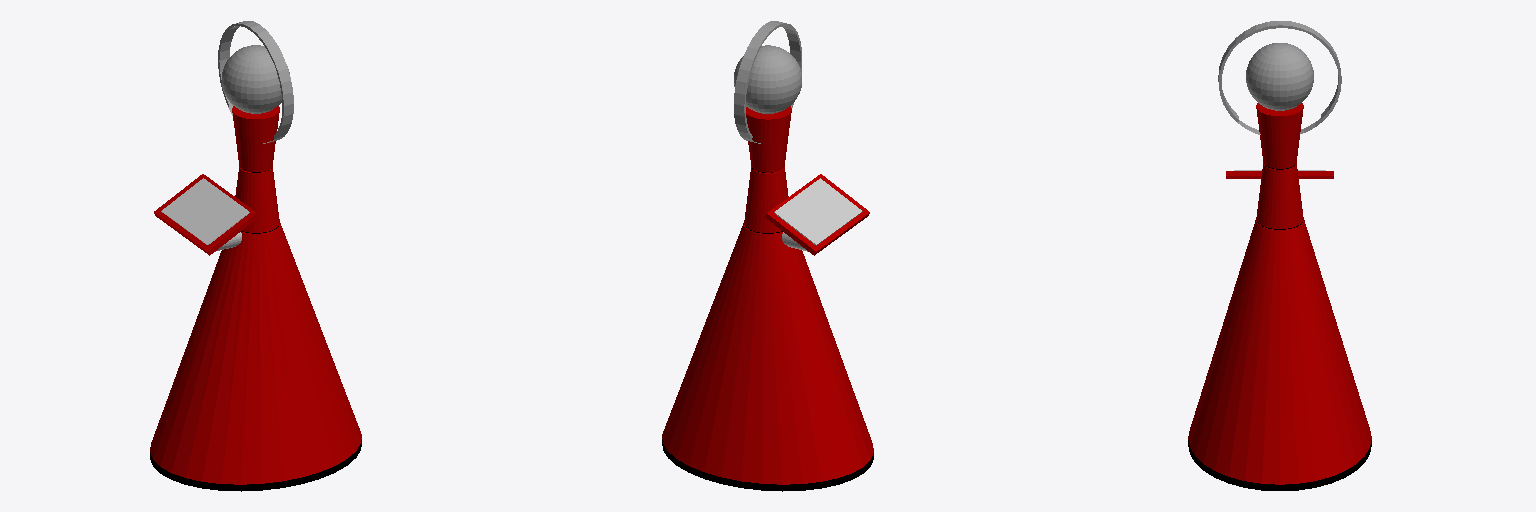
URDF robot description (scitosA5):
<?xml version="1.0" ?>
<robot name="scitosA5" xmlns:controller="http://playerstage.sourceforge.net/gazebo/xmlschema/#controller" xmlns:interface="http://playerstage.sourceforge.net/gazebo/xmlschema/#interface" xmlns:joint="http://playerstage.sourceforge.net/gazebo/xmlschema/#slider" xmlns:sensor="http://playerstage.sourceforge.net/gazebo/xmlschema/#sensor" xmlns:xacro="http://ros.org/wiki/xacro">
  <material name="Red">
    <color rgba="0.8 0.0 0.0 1.0"/>
  </material>
  <link name="base_link">
    <inertial>
      <mass value="74.5"/>
      <origin xyz="-0.061 0.0 0.1465"/>
      <inertia ixx="5.652232699207" ixy="-0.009719934438" ixz="1.293988226423" iyy="5.669473158652" iyz="-0.007379583694" izz="3.683196351726"/>
    </inertial>
    <visual>
      <origin rpy="0 0 0" xyz="0 0 0.0"/>
      <geometry>
        <!-- <cylinder length="0.6" radius="0.2"/> -->
        <mesh filename="package://scitos_description/meshes/scitos.dae"/>
      </geometry>
      <!-- <material name="Red"/> -->
    </visual>
    <collision>
      <origin rpy="0 0 0" xyz="0 0 0.3"/>
      <geometry>
        <cylinder length="0.6" radius="0.2"/>
        <!-- <mesh filename="package://strands_morse_2dnav/scitosA5.stl"/> -->
      </geometry>
    </collision>
  </link>

  <link name="base_footprint">
    <inertial>
      <mass value="1.0"/>
      <origin xyz="0 0 0"/>
      <inertia ixx="0.01" ixy="0.0" ixz="0.0" iyy="0.01" iyz="0.0" izz="0.01"/>
    </inertial>
    <visual>
      <origin rpy="0 0 0" xyz="0 0 0"/>
      <geometry>
        <box size="0.01 0.01 0.01"/>
      </geometry>
      <material name="Red"/>
    </visual>
    <collision>
             surface of the collision box matches the top surface of the PR2 base -->
      <origin rpy="0 0 0" xyz="0 0 0.071"/>
      <geometry>
        <box size="0.001 0.001 0.001"/>
      </geometry>
    </collision>
  </link>
  <joint name="base_footprint_joint" type="fixed">
    <origin rpy="0 0 0" xyz="0 0 0.051"/>
    <child link="base_link"/>
    <parent link="base_footprint"/>
  </joint>
  <joint name="base_laser_joint" type="fixed">
    <axis xyz="0 1 0"/>
    <!-- Match the laser with the robot model:
         self.scan.translate(x=0.30, z=0.386) -->
    <origin rpy="0 0 0" xyz="0.3 0.0 0.386"/>
    <!-- <origin rpy="0 0 0" xyz="0.275 0.0 0.252"/> -->
    <parent link="base_link"/>
    <child link="base_laser_link"/>
  </joint>
  <link name="base_laser_link" type="laser">
    <inertial>
      <mass value="0.001"/>
      <origin rpy="0 0 0" xyz="0 0 0"/>
      <inertia ixx="0.0001" ixy="0" ixz="0" iyy="0.000001" iyz="0" izz="0.0001"/>
    </inertial>
  </link>
  <joint name="ptz_z_joint" type="fixed">
    <axis xyz="0 0 1"/>
    <!-- Match the laser with the robot model:
         self.scan.translate(x=0.30, z=0.386) -->
    <origin rpy="0 0 0" xyz="0.0 0.0 1.534"/>
    <!-- <origin rpy="0 0 0" xyz="0.275 0.0 0.252"/> -->
    <parent link="base_link"/>
    <child link="ptz_mid_link"/>
  </joint>
  <link name="ptz_mid_link">
    <inertial>
      <mass value="0.001"/>
      <origin rpy="0 0 0" xyz="0 0 0.0"/>
      <inertia ixx="0.0001" ixy="0" ixz="0" iyy="0.000001" iyz="0" izz="0.0001"/>
    </inertial>
  </link>
  <joint name="ptz_y_joint" type="fixed">
    <axis xyz="0 1 0"/>
    <!-- Match the laser with the robot model:
         self.scan.translate(x=0.30, z=0.386) -->
    <origin rpy="0 0 0" xyz="0.0 0.0 0.043"/>
    <!-- <origin rpy="0 0 0" xyz="0.275 0.0 0.252"/> -->
    <parent link="ptz_mid_link"/>
    <child link="ptz_link"/>
  </joint>
  <link name="ptz_link">
    <inertial>
      <mass value="0.001"/>
      <origin rpy="0 0 0" xyz="0 0 0.0"/>
      <inertia ixx="0.0001" ixy="0" ixz="0" iyy="0.000001" iyz="0" izz="0.0001"/>
    </inertial>
  </link>
  <joint name="camera_joint" type="fixed">
    <!-- <axis xyz="0 1 0"/> -->
    <!-- Match the laser with the robot model:
         self.scan.translate(x=0.30, z=0.386) -->
    <origin rpy="0 0 0" xyz="0.0 0.0 0.07"/>
    <!-- <origin rpy="0 0 0" xyz="0.275 0.0 0.252"/> -->
    <parent link="ptz_link"/>
    <child link="camera_link"/>
  </joint>
  <link name="camera_link" type="camera">
    <inertial>
      <mass value="0.001"/>
      <origin rpy="0 0 0" xyz="0 0 0.0"/>
      <inertia ixx="0.0001" ixy="0" ixz="0" iyy="0.000001" iyz="0" izz="0.0001"/>
    </inertial>
  </link>
  <joint name="kinect_joint" type="fixed">
    <axis xyz="0 0 1"/>
    <!-- Match the laser with the robot model:
         self.scan.translate(x=0.30, z=0.386) -->
    <origin rpy="0 0 0" xyz="0.0 0.0 1.698"/>
    <!-- THE MEASURENT IN THE KINECT JOINT IS ACTUALLY FROM THE BASE_LINK AND NOT THE FOOTPRINT AS IN THE SPEC -->
    <!-- <origin rpy="0 0 0" xyz="0.275 0.0 0.252"/> -->
    <parent link="base_link"/>
    <child link="kinect_link"/>
  </joint>
  <link name="kinect_link" type="kinect">
    <inertial>
      <mass value="0.001"/>
      <origin rpy="0 0 0" xyz="0 0 0.0"/>
      <inertia ixx="0.0001" ixy="0" ixz="0" iyy="0.000001" iyz="0" izz="0.0001"/>
    </inertial>
  </link>

</robot>

--- Facts derived from the render (not from the file) ---
3 views of the same robot in one strip: view 1: azimuth 30°, elevation 25°; view 2: azimuth 150°, elevation 25°; view 3: azimuth 270°, elevation 25° (orthographic).
Model scitosA5 with 7 links and 6 joints (6 fixed), rooted at base_footprint, posed every joint at zero.
Links seen in each view (by area): view 1: base_link; view 2: base_link; view 3: base_link.
Link boxes in pixels (x1=…): base_link: x1=150, y1=21, x2=361, y2=491; base_link: x1=662, y1=21, x2=873, y2=491; base_link: x1=1188, y1=21, x2=1371, y2=490.
Bounding box of the posed robot: 0.7365 × 0.617 × 1.64 m (x, y, z).
1 mesh visuals loaded from 1 distinct referenced files (1 Collada DAE).